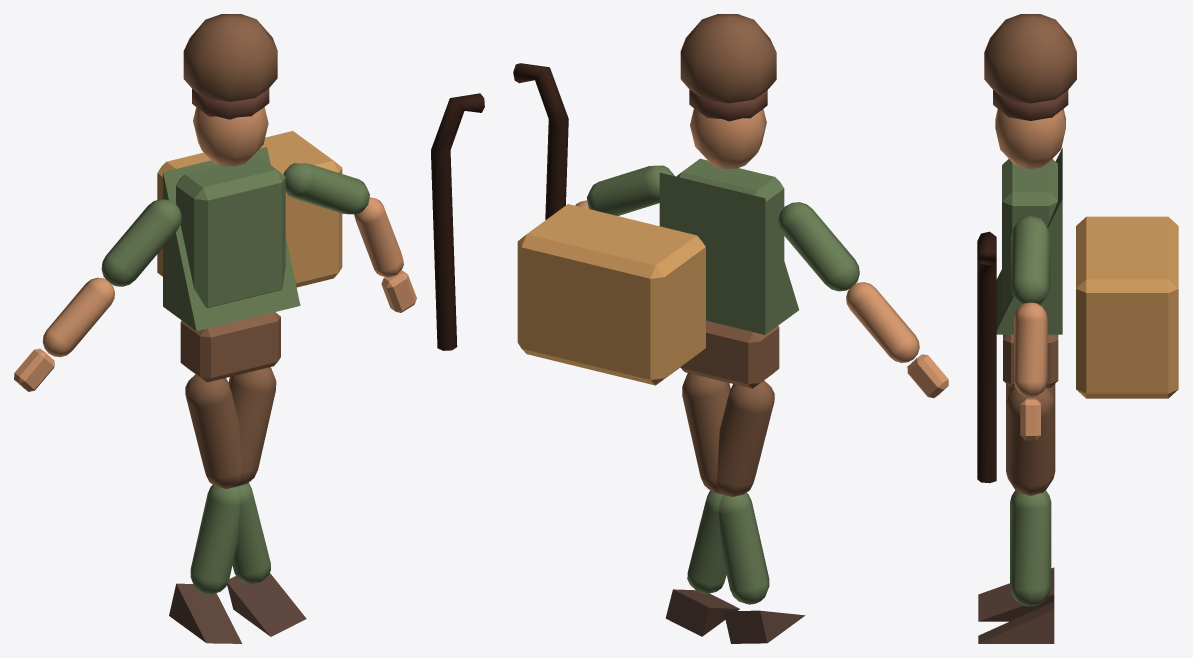
File: adventurer.rustic.glb
3 renders of one model, left to right at view 1: azimuth 30°, elevation 25°; view 2: azimuth 150°, elevation 25°; view 3: azimuth 270°, elevation 25°, orthographic.
Visible parts, largest first — view 1: torso, accessory.back, accessory.head, tunic, accessory.main-hand, pelvis, thigh.left, shin.right, upper-arm.left, thigh.right, head, upper-arm.right (+8 smaller); view 2: accessory.back, tunic, accessory.head, thigh.left, pelvis, shin.right, upper-arm.left, thigh.right, accessory.main-hand, head, forearm.left, upper-arm.right (+6 smaller); view 3: accessory.back, accessory.head, accessory.main-hand, shin.left, thigh.right, torso, upper-arm.right, head, forearm.right, tunic, foot.left, foot.right (+3 smaller).
Part boxes in pixels (box(x1,y1,x2,y2)): torso: box(176, 156, 285, 307); accessory.back: box(157, 131, 342, 287); accessory.head: box(183, 14, 277, 101); tunic: box(163, 147, 300, 330); accessory.main-hand: box(431, 93, 484, 350); pelvis: box(180, 312, 280, 382); thigh.left: box(185, 374, 241, 488); shin.right: box(190, 485, 239, 594); upper-arm.left: box(101, 199, 181, 286); thigh.right: box(228, 367, 276, 486); head: box(193, 107, 268, 166); upper-arm.right: box(283, 163, 369, 214); accessory.back: box(517, 204, 705, 385); tunic: box(659, 172, 798, 334); accessory.head: box(680, 14, 776, 103); thigh.left: box(717, 380, 774, 496); pelvis: box(680, 320, 779, 388); shin.right: box(719, 492, 769, 604); upper-arm.left: box(778, 202, 859, 291); thigh.right: box(682, 373, 730, 494); accessory.main-hand: box(513, 63, 568, 219); head: box(690, 108, 766, 168); forearm.left: box(846, 282, 919, 362); upper-arm.right: box(587, 165, 674, 215); accessory.back: box(1076, 216, 1178, 398); accessory.head: box(984, 14, 1076, 103); accessory.main-hand: box(977, 231, 996, 483); shin.left: box(1010, 491, 1051, 606); thigh.right: box(1006, 388, 1055, 495); torso: box(1002, 159, 1057, 310); upper-arm.right: box(1011, 216, 1050, 304); head: box(995, 109, 1065, 168); forearm.right: box(1014, 302, 1047, 397); tunic: box(996, 148, 1062, 334); foot.left: box(978, 601, 1054, 643); foot.right: box(978, 567, 1054, 621).
Size of the model in its own units: 2.52 by 3.28 by 0.98.
